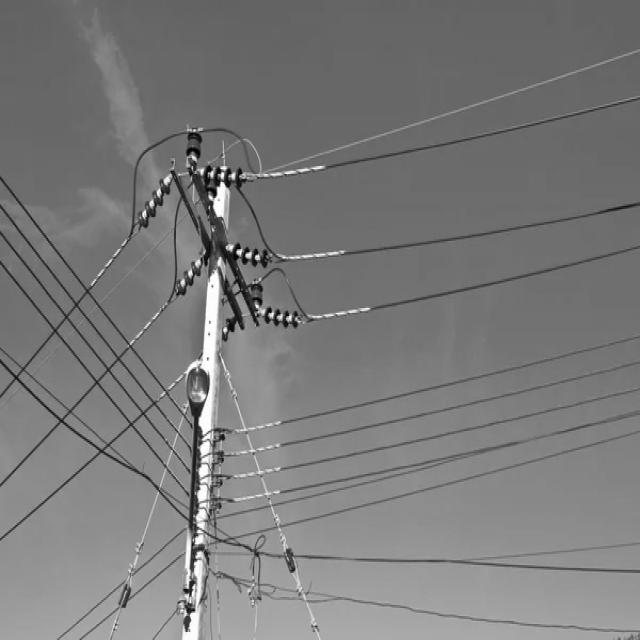Pole: (182, 160, 233, 640)
